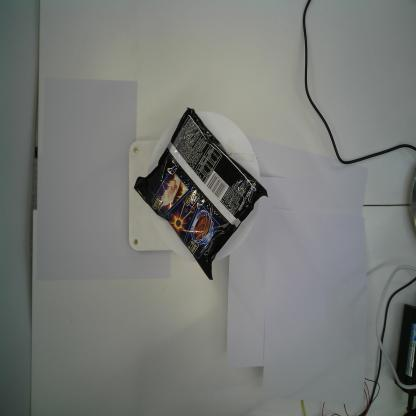Instant Noodles: (131, 107, 272, 282)
